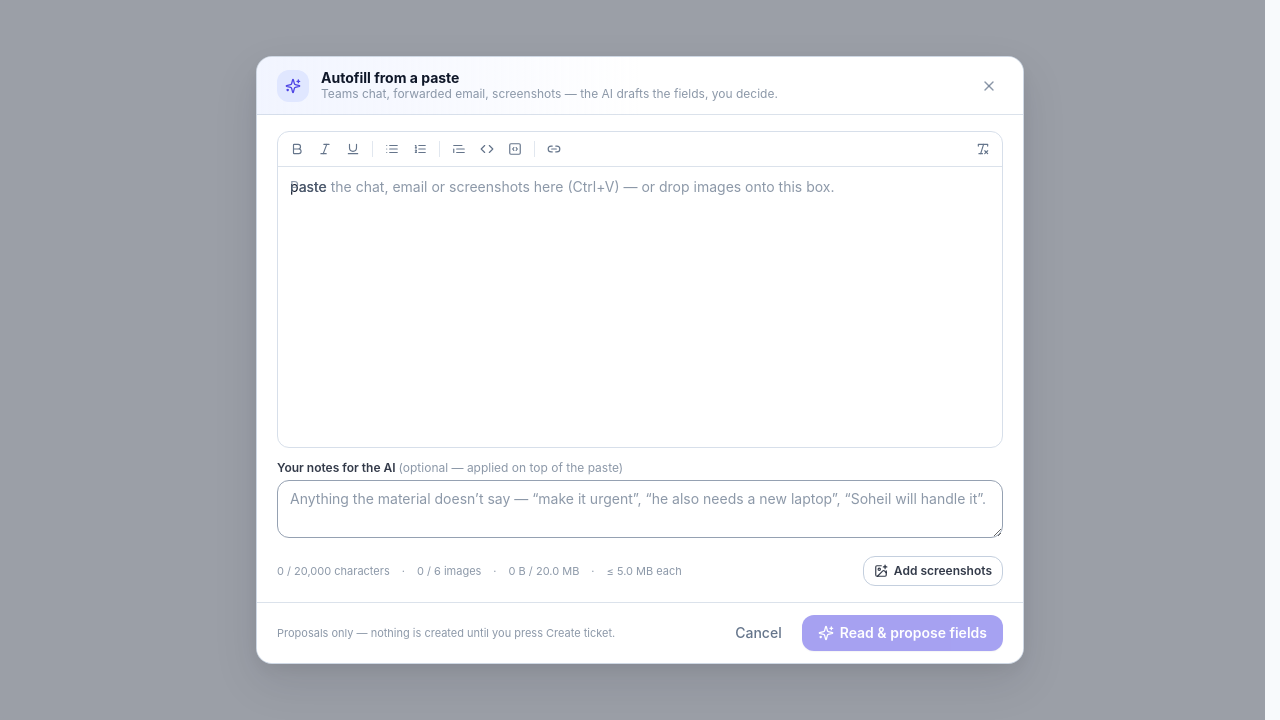
Test case: AutofillModal — extract + review › locked fields and unmatched hints render as kept/skipped rows and stay unticked + disabled
Clear the field named "Pasted source material" at point(308, 187), box [290, 178, 327, 195]
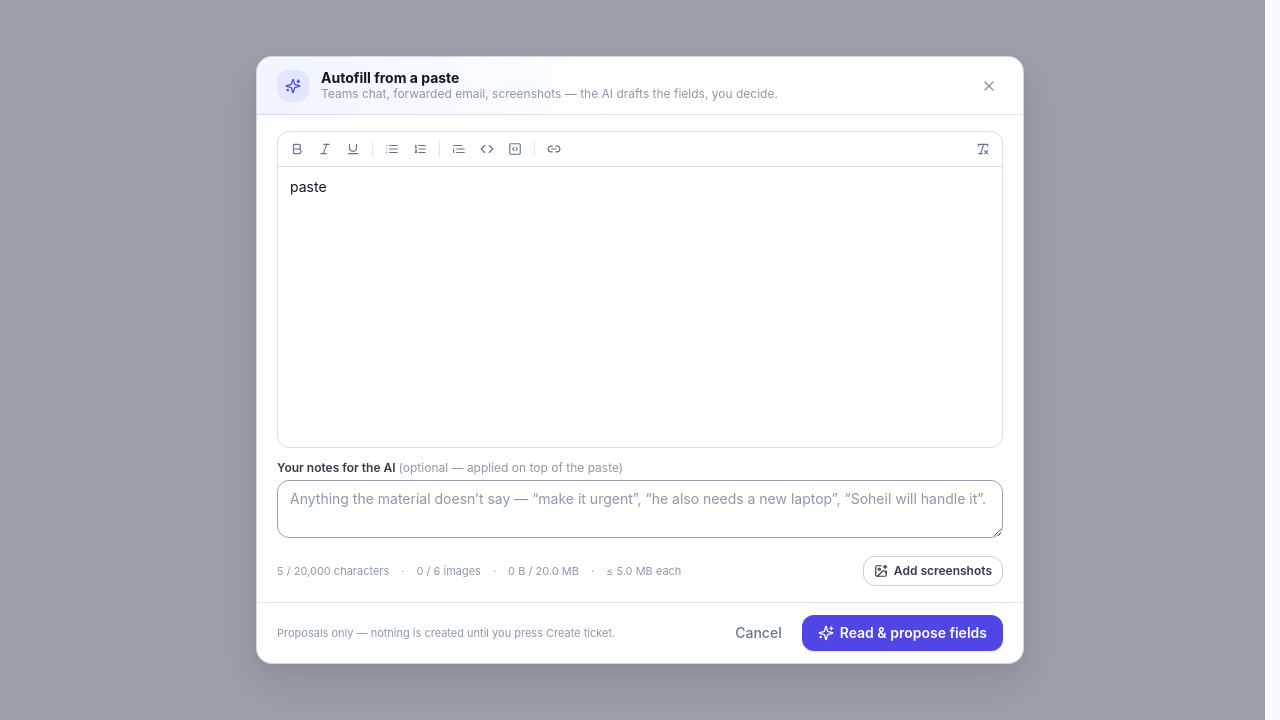
Click the button "Read & propose fields" at point(902, 633), box [802, 615, 1003, 651]
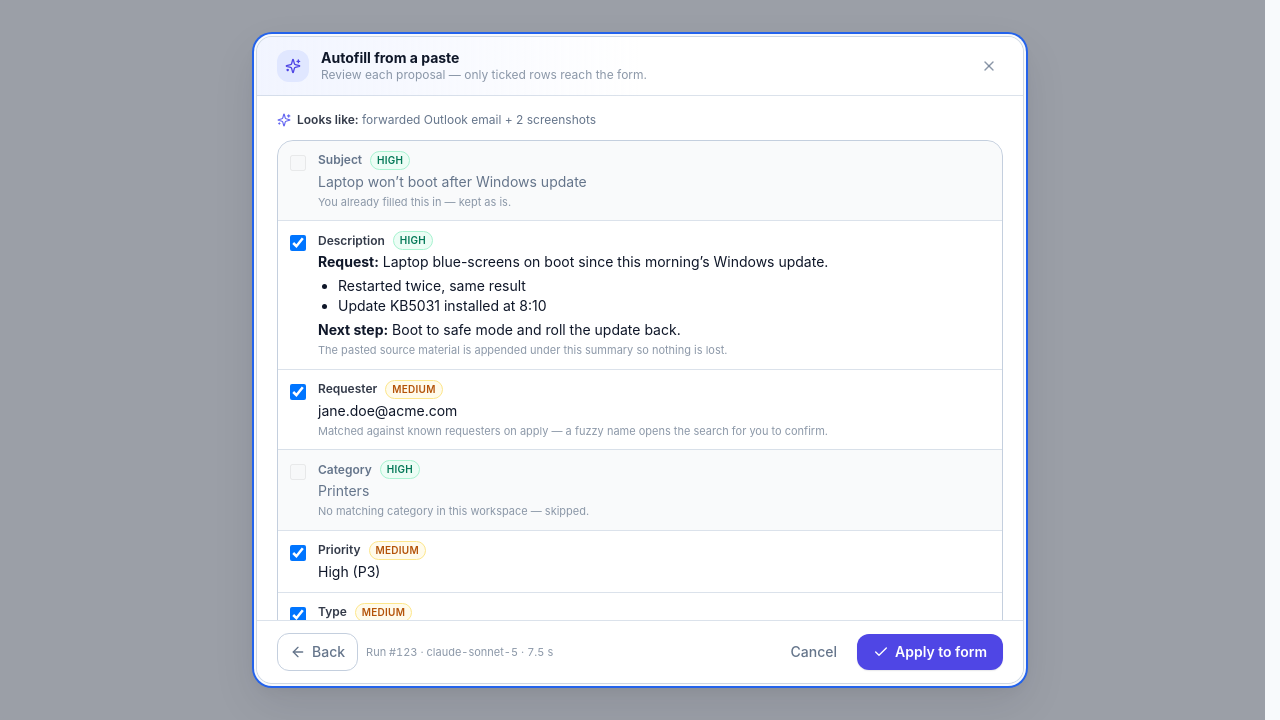
Result: the element with test id "autofill-source-summary" is shown at [277, 112, 596, 126]
Result: the text "You already filled this in — kept as is." is shown at [318, 194, 511, 208]
Result: the text "No matching category in this workspace — skipped." is shown at [318, 504, 589, 518]
